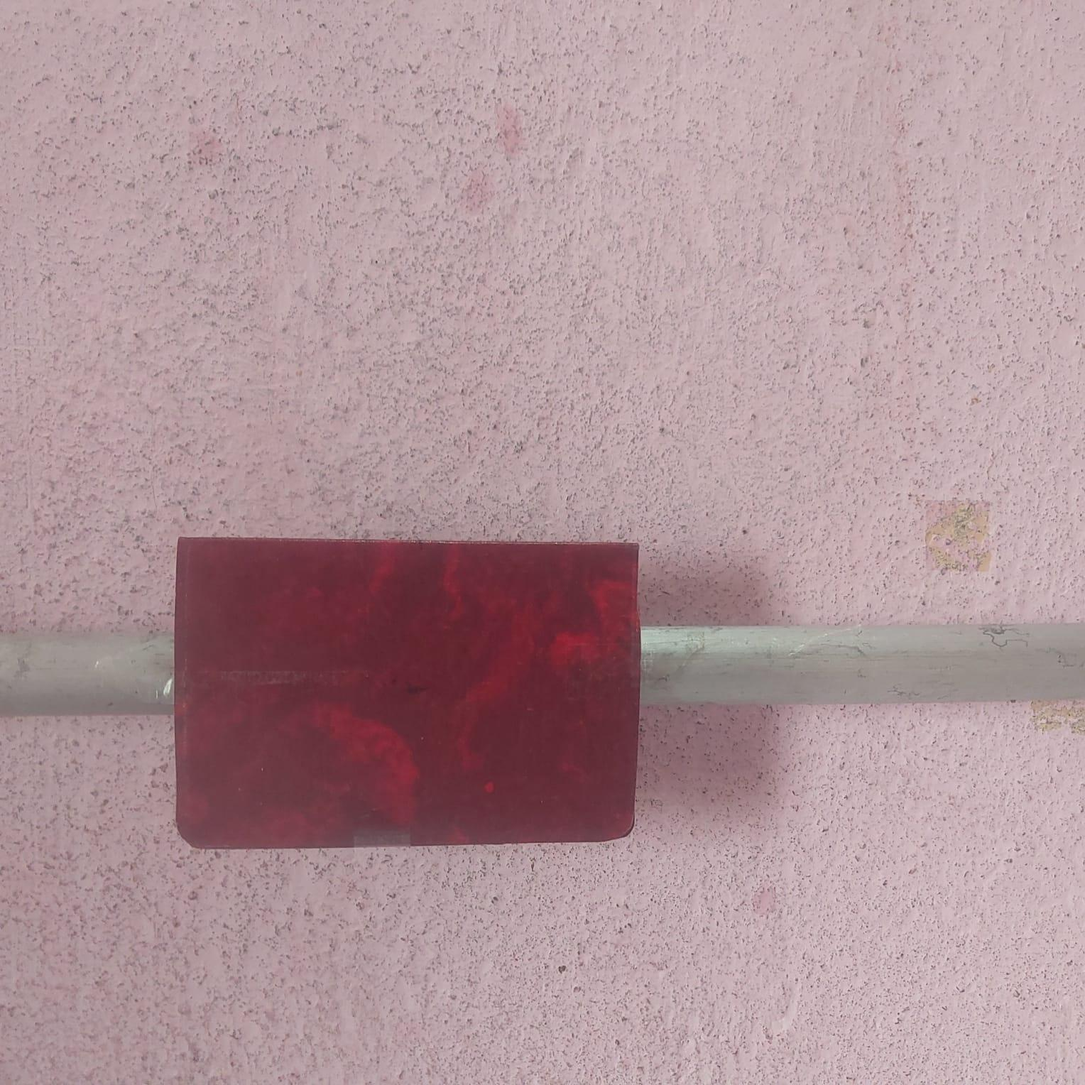wallet: (160, 533, 646, 848)
